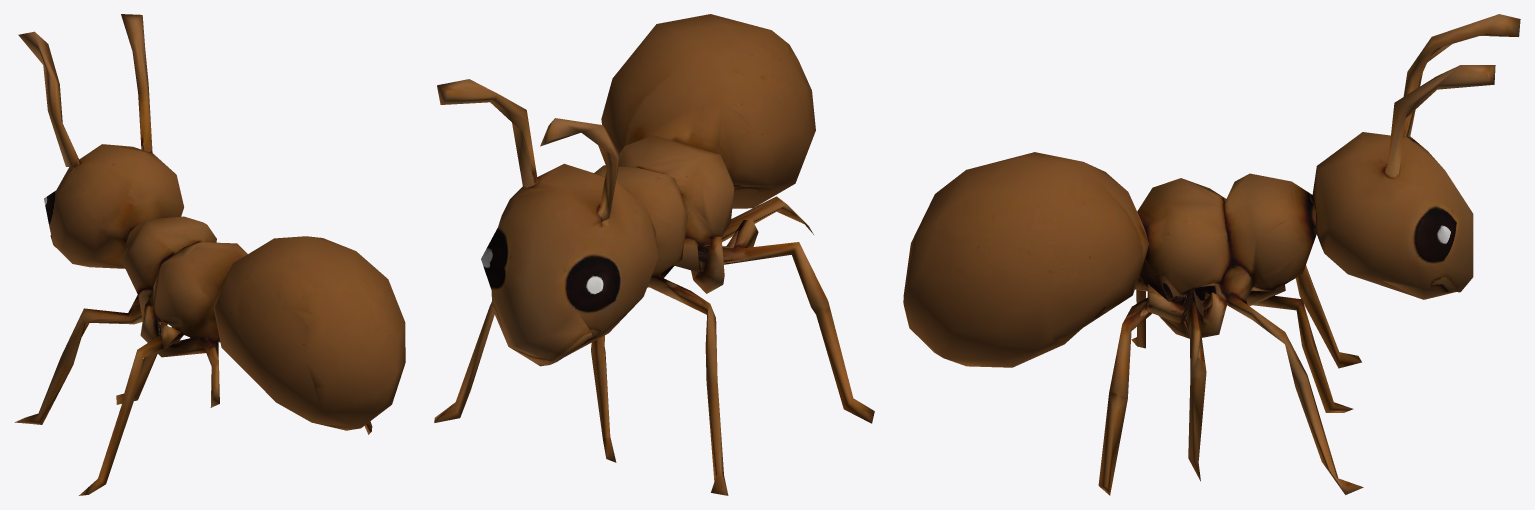
The model's file is toad-ant.glb.
The picture shows the model from 3 angles, left to right: view 1: azimuth 30°, elevation 25°; view 2: azimuth 150°, elevation 25°; view 3: azimuth 270°, elevation 25°; orthographic projection. The views are drawn at different scales.
Parts seen in each view (by area): view 1: lo; view 2: lo; view 3: lo.
Part boxes in pixels (x1=…): lo: x1=14, y1=14, x2=405, y2=495; lo: x1=434, y1=14, x2=874, y2=495; lo: x1=903, y1=14, x2=1520, y2=495.
Bounding box in the file's own units: 0.011 × 0.0125 × 0.0179.
1 material, 1 textured.
